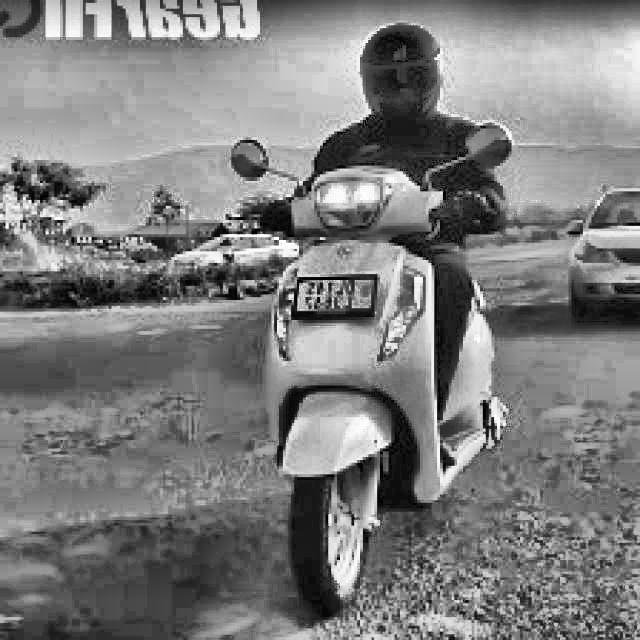motorcycle: (217, 125, 528, 616)
